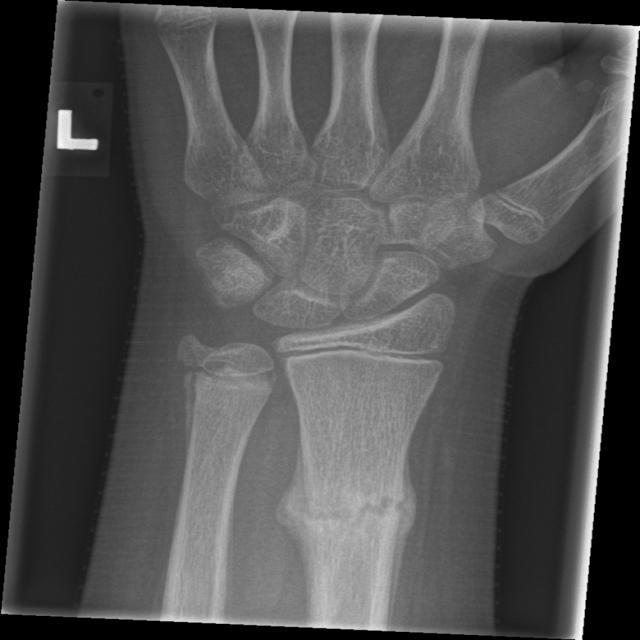radius fracture: (257, 451, 445, 582)
